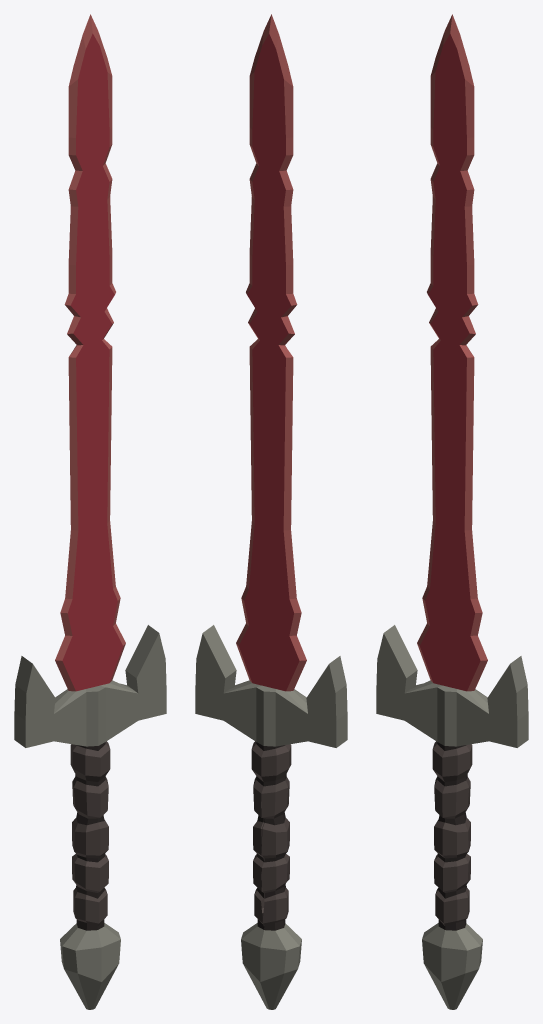
The model's file is armory-berserker-4.glb.
3 views of the same model, side by side, from view 1: azimuth 30°, elevation 25°; view 2: azimuth 150°, elevation 25°; view 3: azimuth 330°, elevation 25° (orthographic).
Visible parts, largest first — view 1: Claymore_Cylinder.010; view 2: Claymore_Cylinder.010; view 3: Claymore_Cylinder.010.
Boxes of the visible parts, box(x1,y1,x2,y2) form: Claymore_Cylinder.010: box(14, 14, 166, 1009); Claymore_Cylinder.010: box(195, 14, 347, 1009); Claymore_Cylinder.010: box(376, 14, 528, 1009).
Bounding box in the file's own units: 0.9779 × 6.59 × 0.2713.
